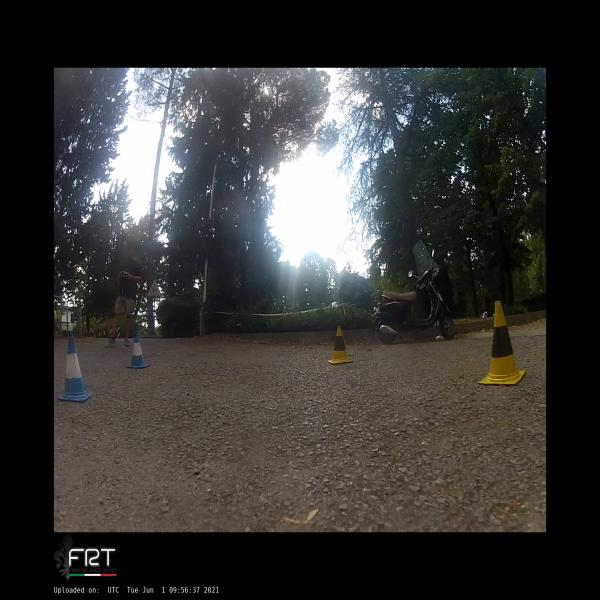blue_cone: (57, 333, 92, 402), (126, 338, 150, 368)
yellow_cone: (478, 301, 526, 385), (328, 326, 352, 364)
